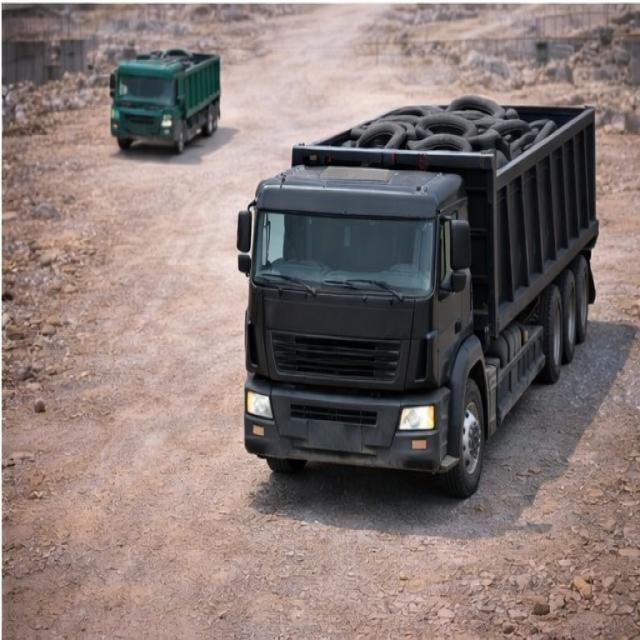Box: (292, 93, 597, 167), (139, 48, 223, 68)
Truck: (235, 87, 606, 496), (104, 36, 226, 160)
